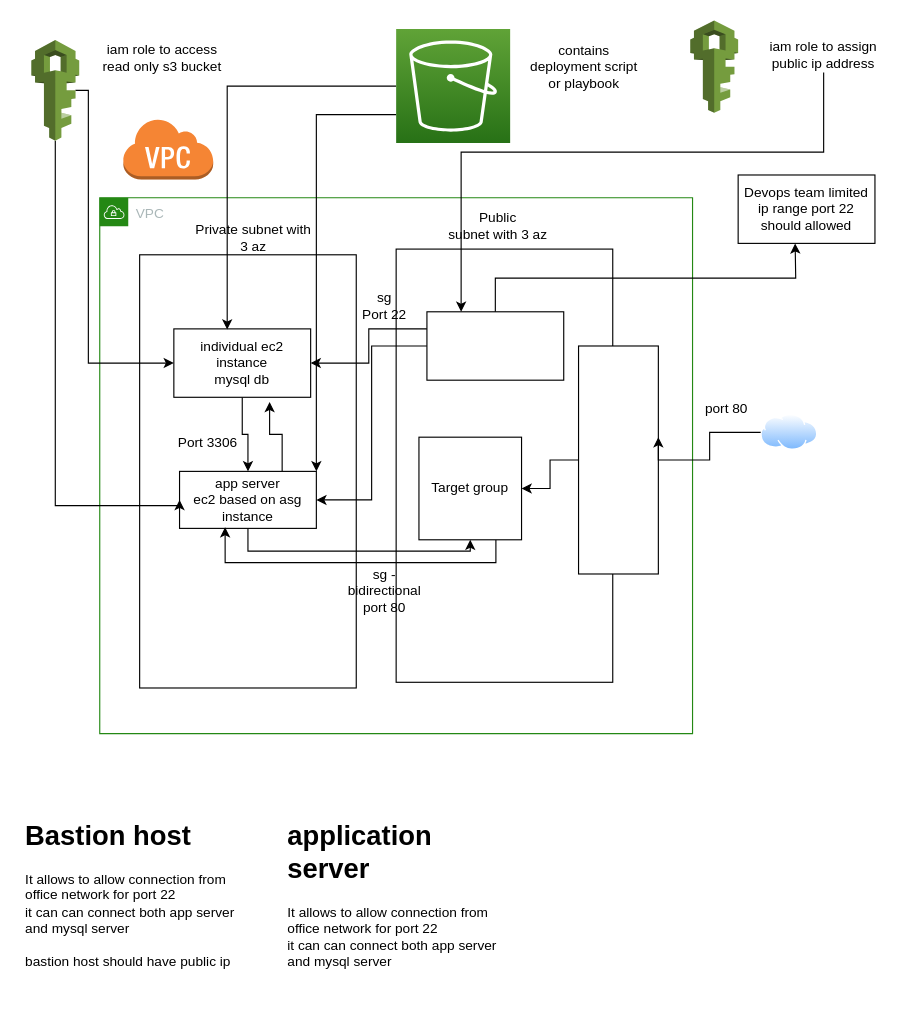
The diagram is 905 pixels wide and 1026 high, and some of its shapes have lost their labels. Each missing label, with the box of its shape:
applicatino lb: (577, 345, 658, 574)
bastion ec2 based on asg instance: (426, 311, 564, 380)
